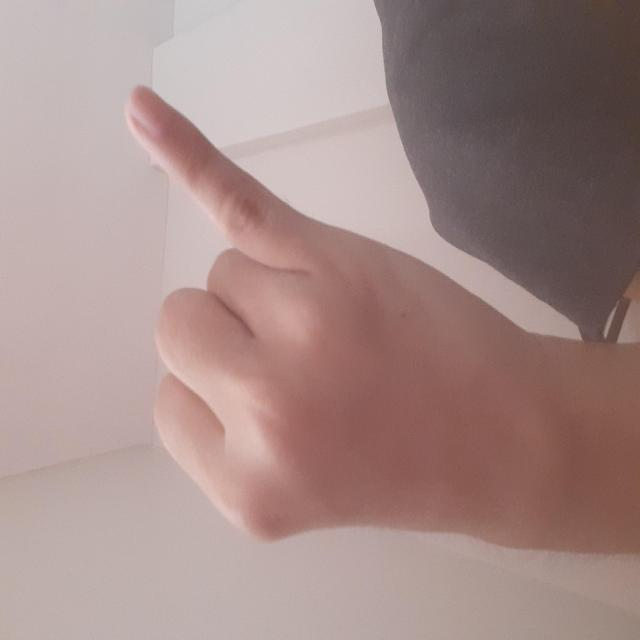J: (70, 59, 529, 574)
